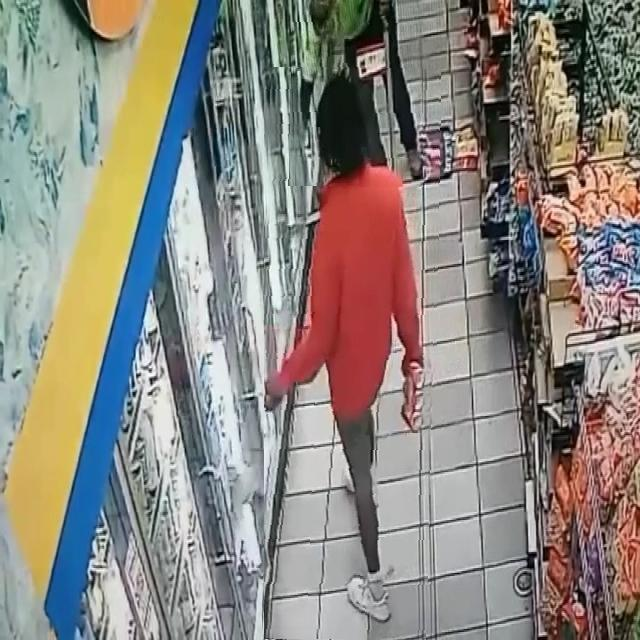Normal: (264, 67, 439, 640), (291, 0, 423, 187)
